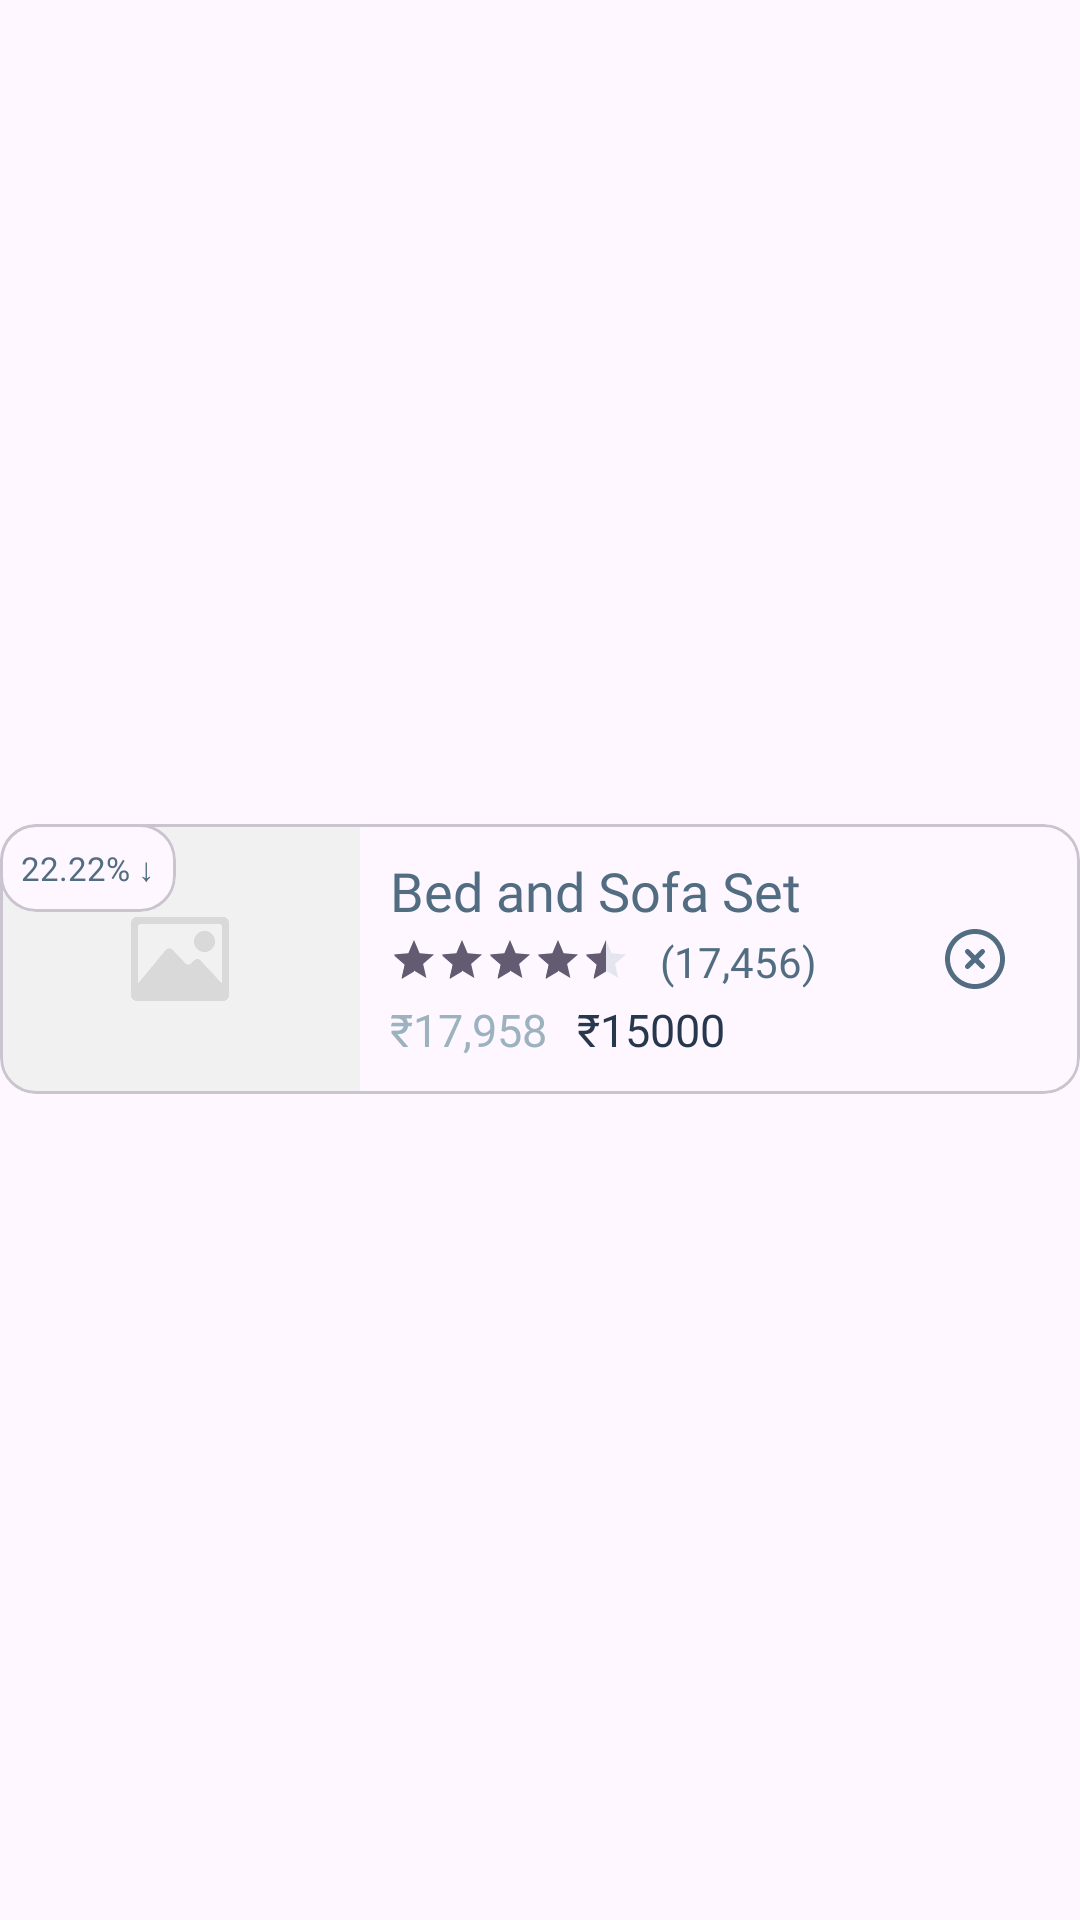

Point at icon controls on the screen. Image size 1080 × 1920, points as (x=x, y=y).
delete: (x=975, y=959)
